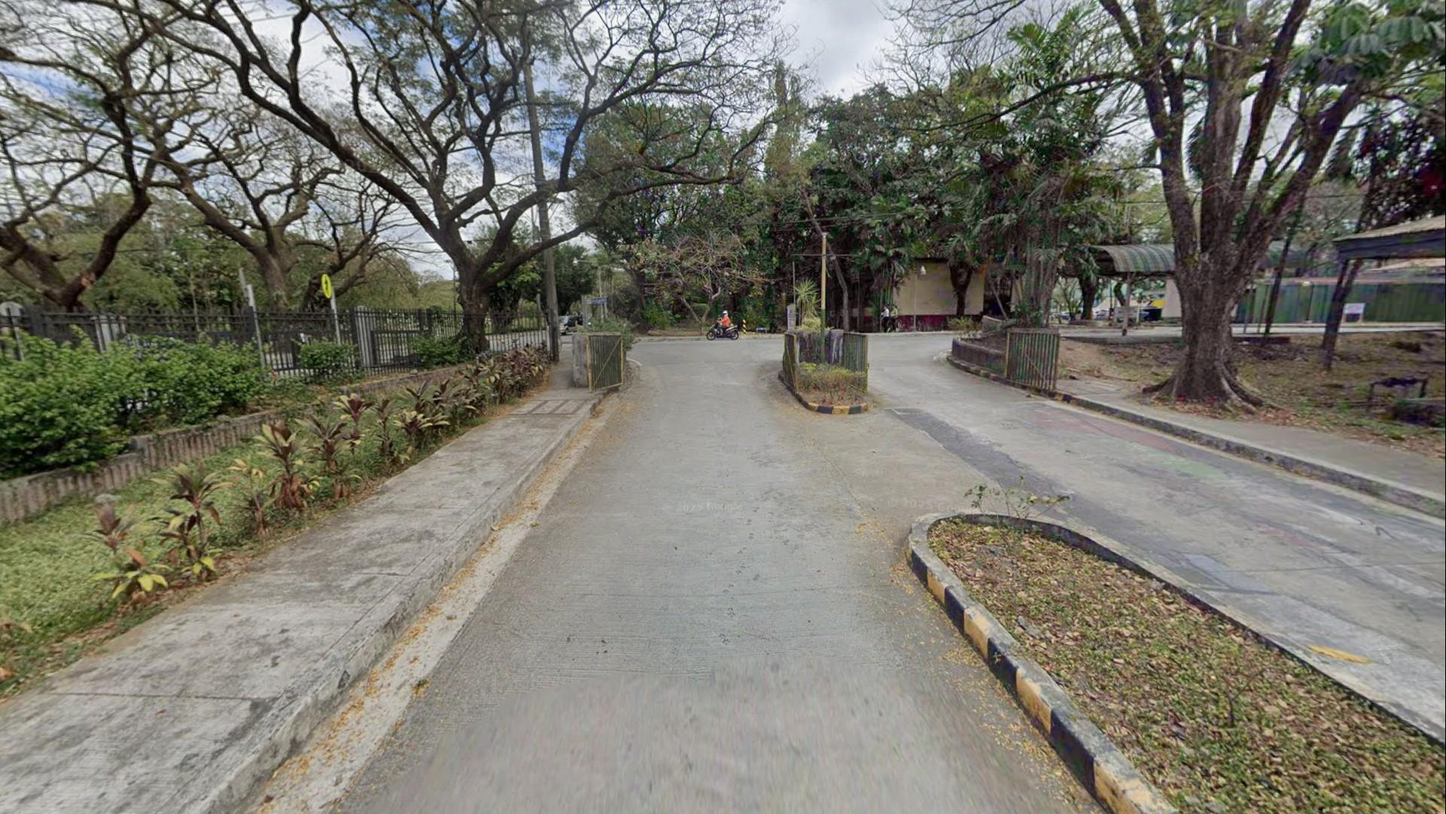pedestrian: (888, 304, 900, 333), (880, 305, 891, 334)
